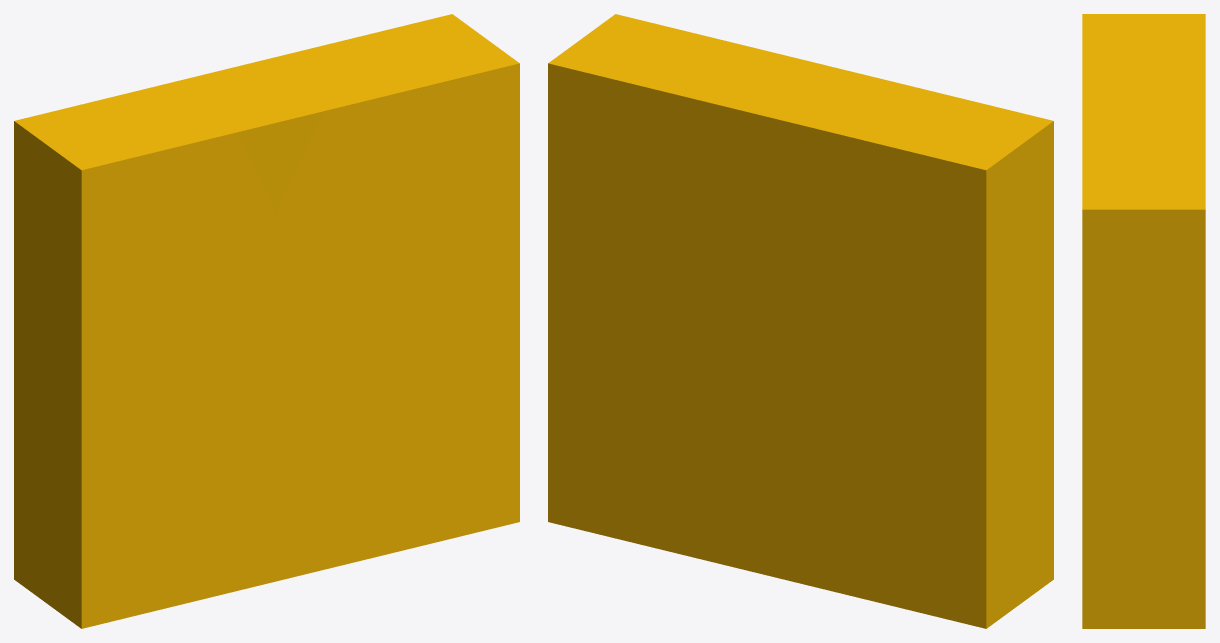
File: celling1-3_low.fbx
The picture shows the model from 3 angles, left to right: view 1: azimuth 30°, elevation 25°; view 2: azimuth 150°, elevation 25°; view 3: azimuth 270°, elevation 25°; orthographic projection. The views are drawn at different scales.
Visible parts, largest first — view 1: celling1-3_low; view 2: celling1-3_low; view 3: celling1-3_low.
Boxes of the visible parts, x1,y1,x2,y2 form: celling1-3_low: [14, 14, 519, 628]; celling1-3_low: [548, 14, 1053, 628]; celling1-3_low: [1082, 14, 1205, 628].
Bounding box in the file's own units: 150 × 150 × 40.
